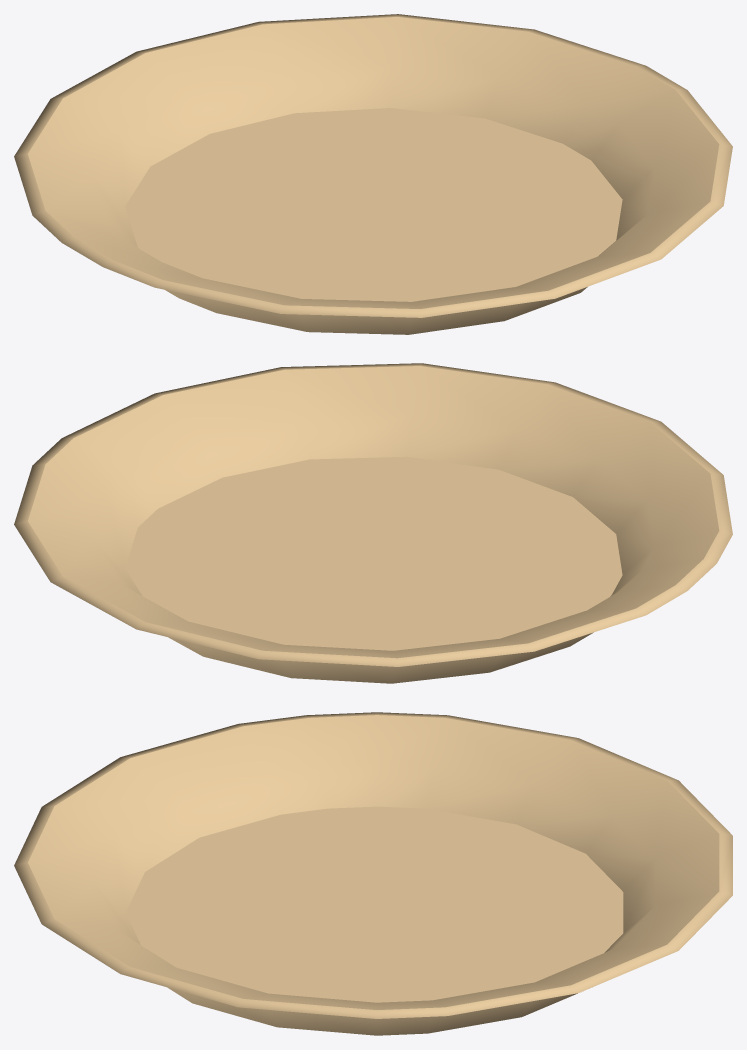
The model's file is plato_Seminario.fbx.
The picture shows the model from 3 angles, top to bottom: view 1: azimuth 30°, elevation 25°; view 2: azimuth 150°, elevation 25°; view 3: azimuth 270°, elevation 25°; orthographic projection.
Parts seen in each view (by area): view 1: Cylinder.006; view 2: Cylinder.006; view 3: Cylinder.006.
Boxes of the visible parts, <box> form: Cylinder.006: <box>14,14,732,334</box>; Cylinder.006: <box>14,363,732,683</box>; Cylinder.006: <box>14,712,732,1035</box>.
Size of the model in its own units: 132 by 12.63 by 131.
